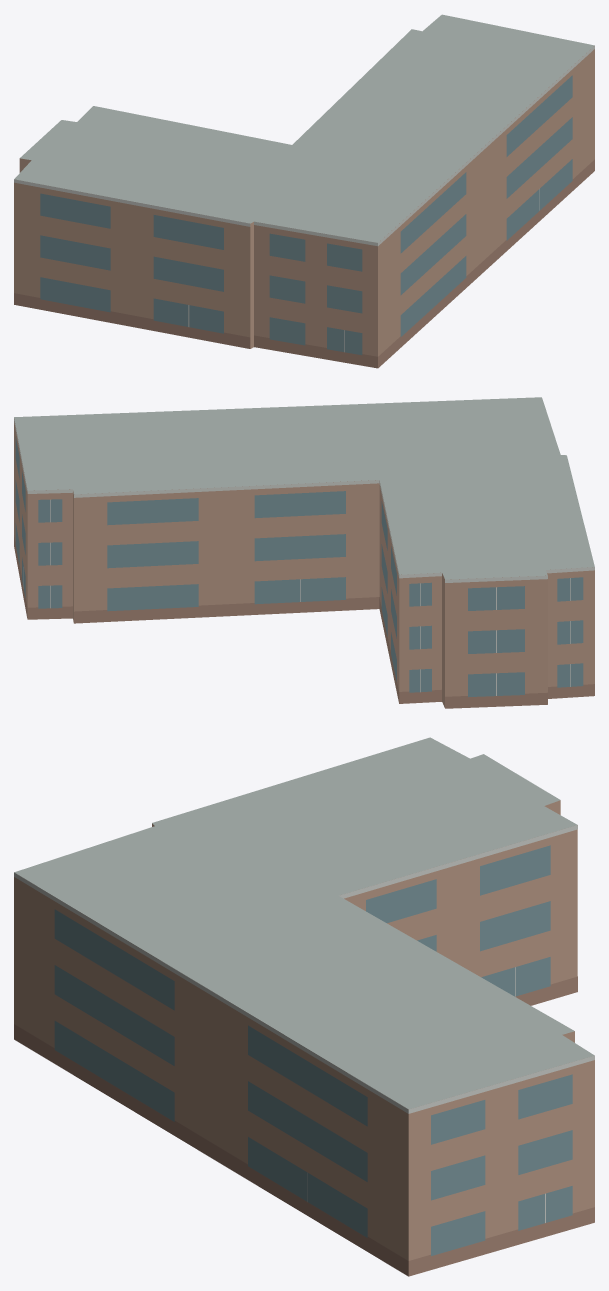
Rendered from survey-upis-32814130.glb.
3 renders of one model, top to bottom at view 1: azimuth 30°, elevation 25°; view 2: azimuth 150°, elevation 25°; view 3: azimuth 270°, elevation 25°, orthographic. The views are drawn at different scales.
Parts seen in each view (by area): view 1: survey-upis-32814130.tmp; view 2: survey-upis-32814130.tmp; view 3: survey-upis-32814130.tmp.
Boxes of the visible parts, x1,y1,x2,y2 form: survey-upis-32814130.tmp: [14, 14, 594, 368]; survey-upis-32814130.tmp: [14, 397, 594, 708]; survey-upis-32814130.tmp: [14, 737, 594, 1276].
Size of the model in its own units: 43.72 by 9.15 by 28.84.
